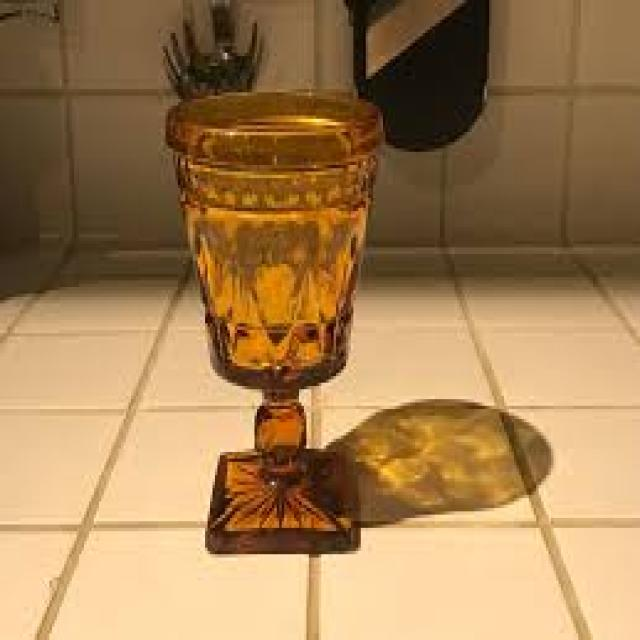glass: (161, 86, 378, 551)
